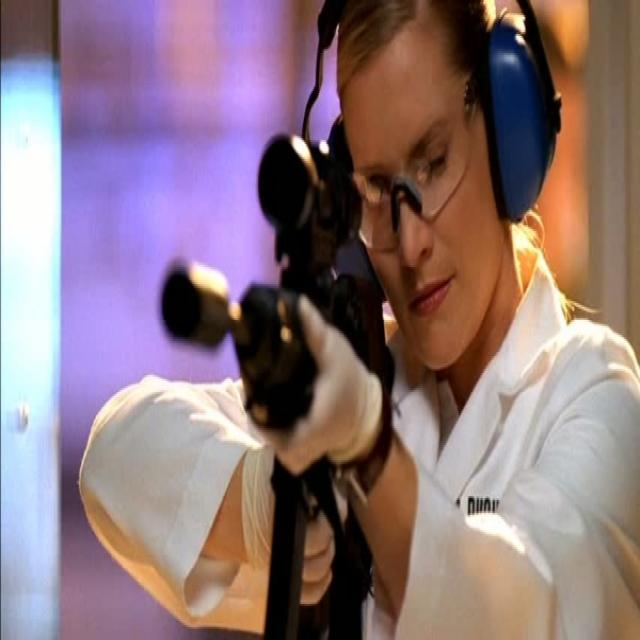rifle: (151, 116, 402, 640)
